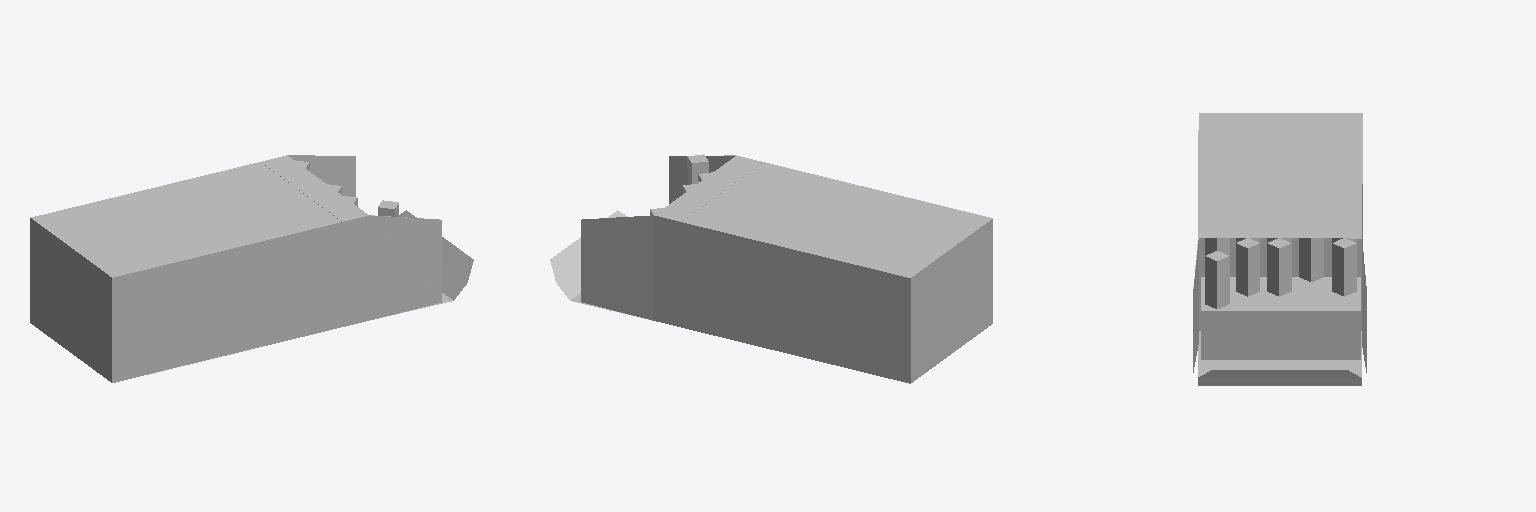
The picture shows the model from 3 angles: view 1: azimuth 30°, elevation 25°; view 2: azimuth 150°, elevation 25°; view 3: azimuth 270°, elevation 25°; orthographic projection.
Parts seen in each view (by area): view 1: 33Special_Open_Box; view 2: 33Special_Open_Box; view 3: 33Special_Open_Box.
Boxes of the visible parts, <box> form: 33Special_Open_Box: <box>30,155,473,382</box>; 33Special_Open_Box: <box>550,154,992,383</box>; 33Special_Open_Box: <box>1193,113,1366,385</box>.
Bounding box in the file's own units: 1.56 × 0.4286 × 0.6365.